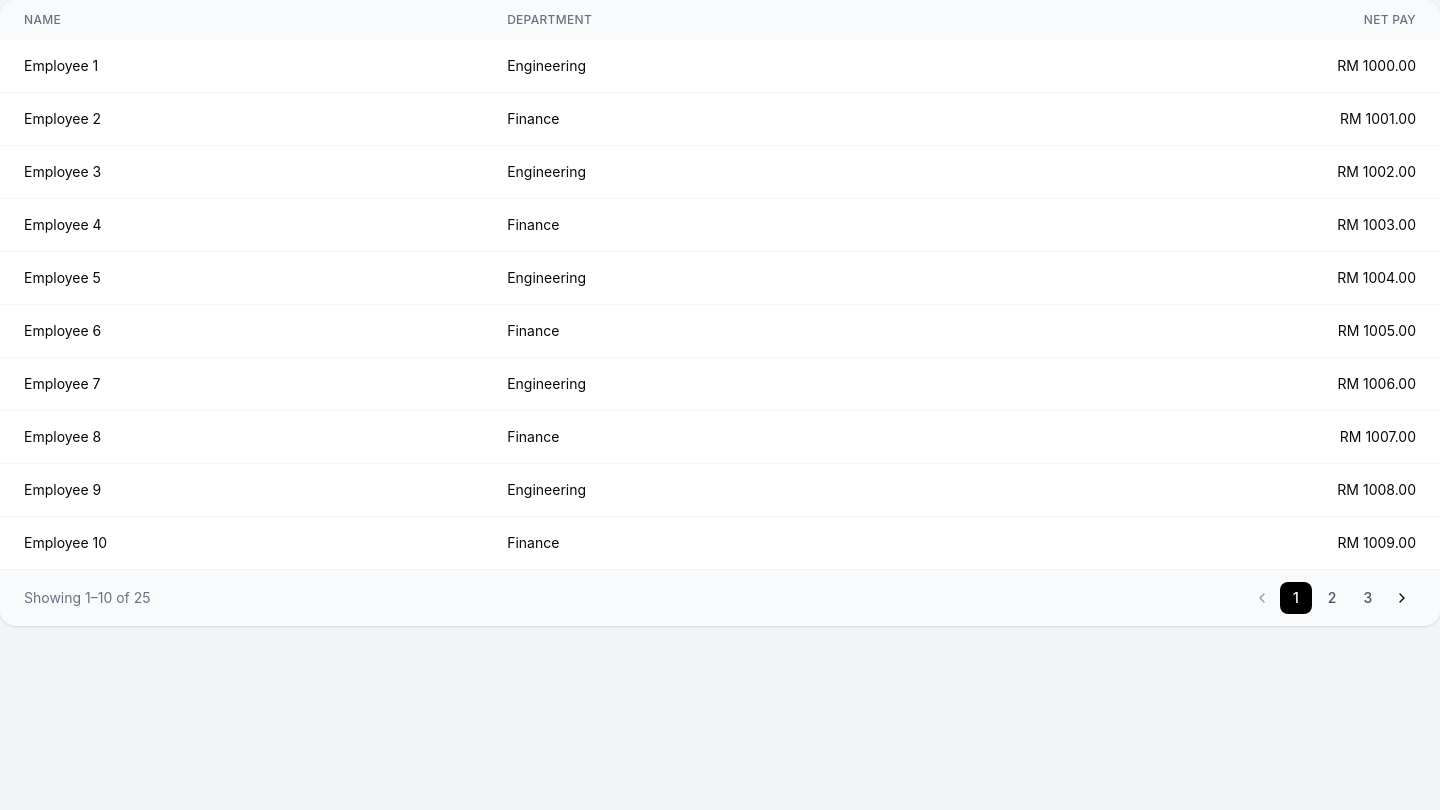
it: DataTable client-side pagination › slices data to the current page and reports the visible range
Expected: the text "Showing 1–10 of 25" is shown, [24,588,151,608]
What coordinates should you click on to do the following:
click the button "3"
I would click on:
 (1368, 598)
Its box is [1352,582,1384,614].
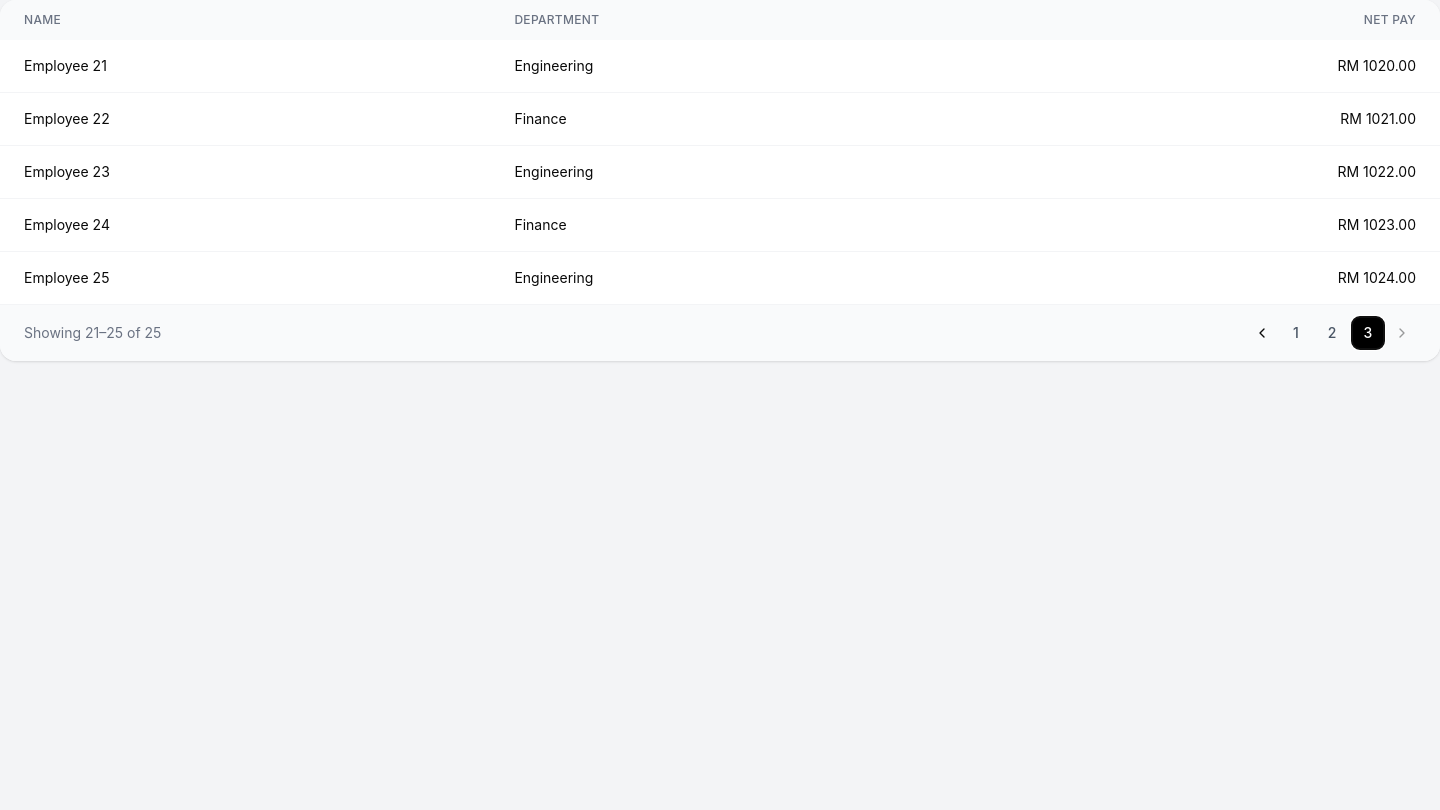
Result: the text "Showing 21–25 of 25" is shown at [24,323,161,343]
